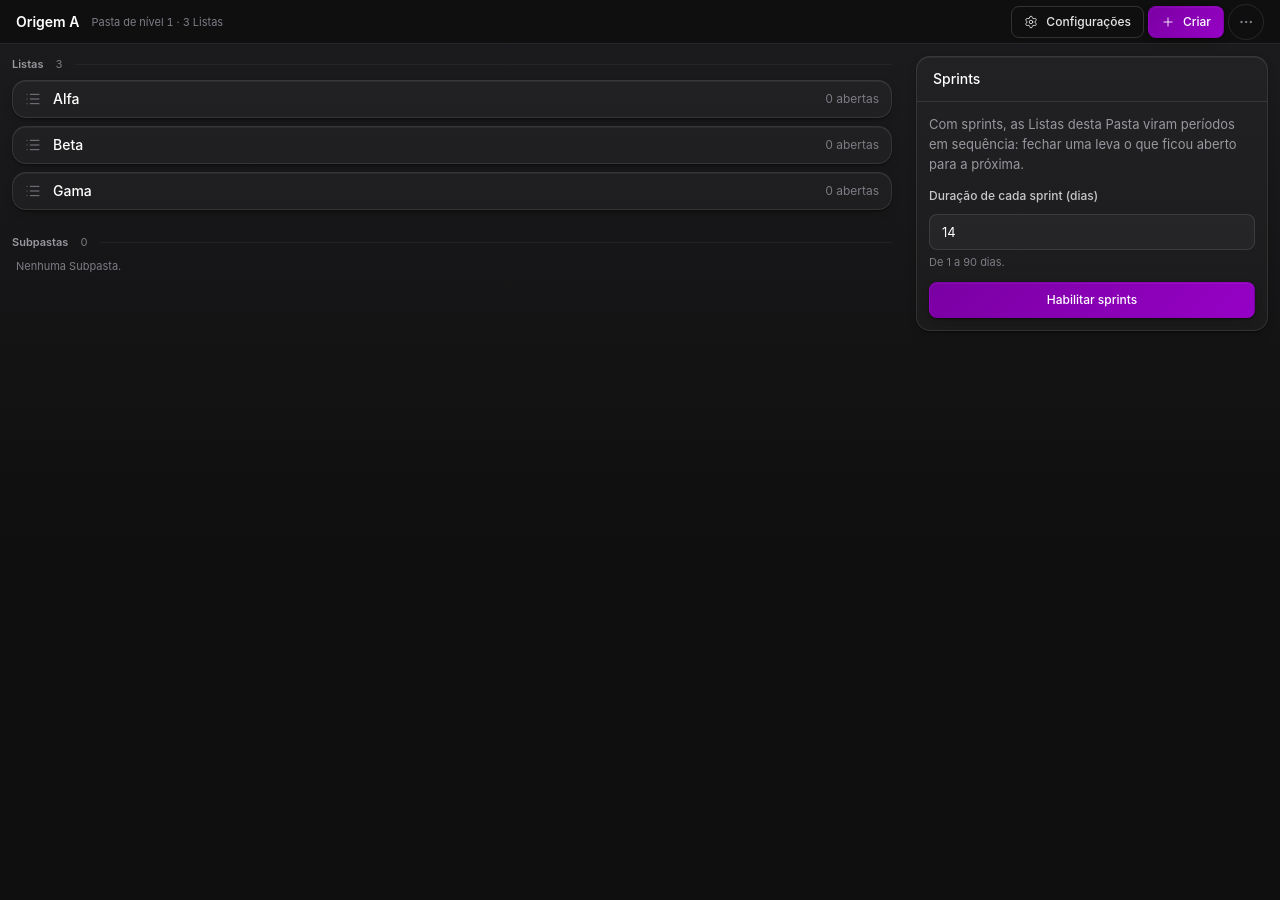
Scenario: A página da Pasta e da Subpasta (D-10, A8-bis, F2) › «Mais ações» vem depois de «Configurações» e de «Criar» e «Mover para…» abre o diálogo da Pasta
The image size is (1280, 900).
Click the button named "Mais ações" at (1246,22), box [1228, 4, 1264, 40]
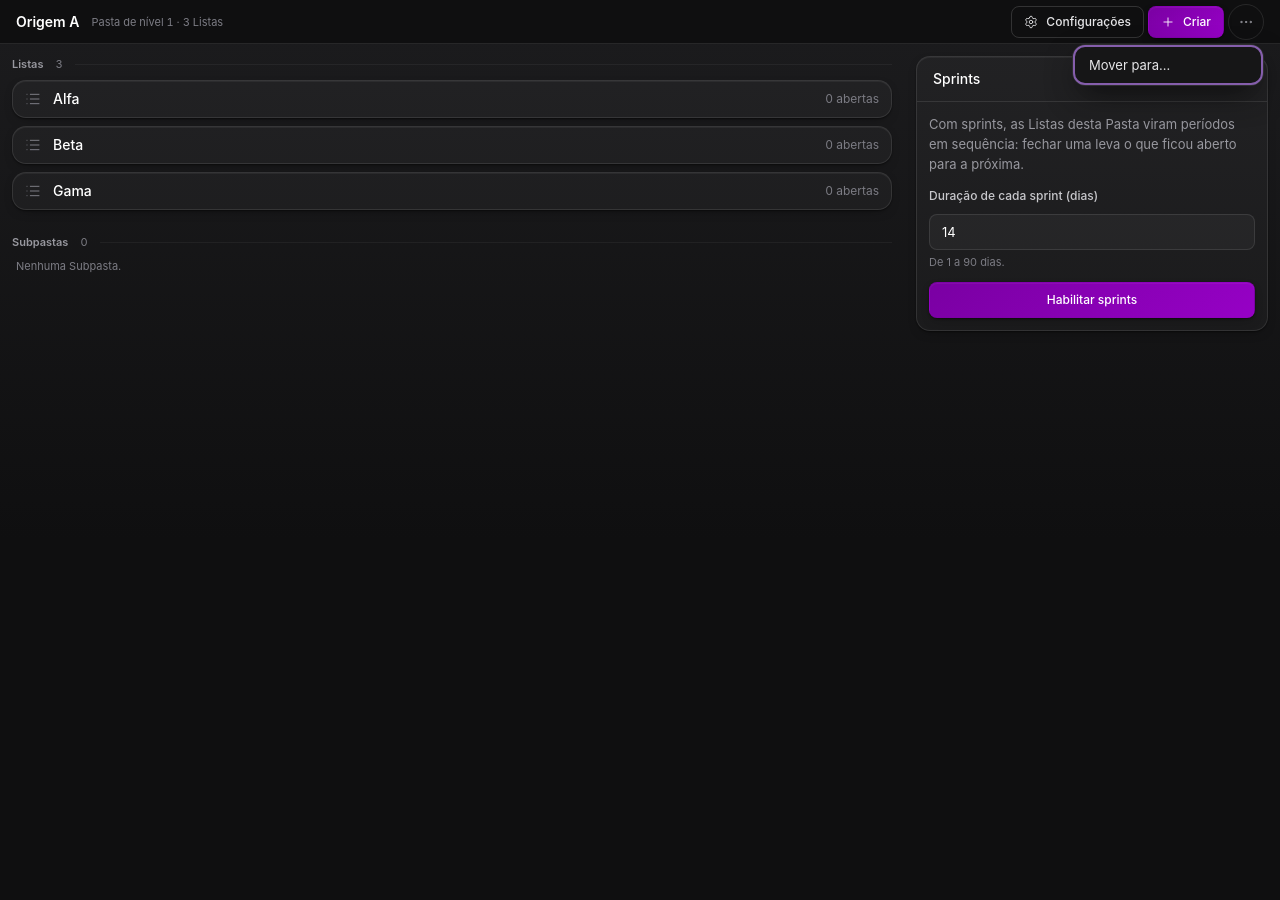
Click the menu item "Mover para…" at (1168,64), box [1077, 48, 1259, 80]
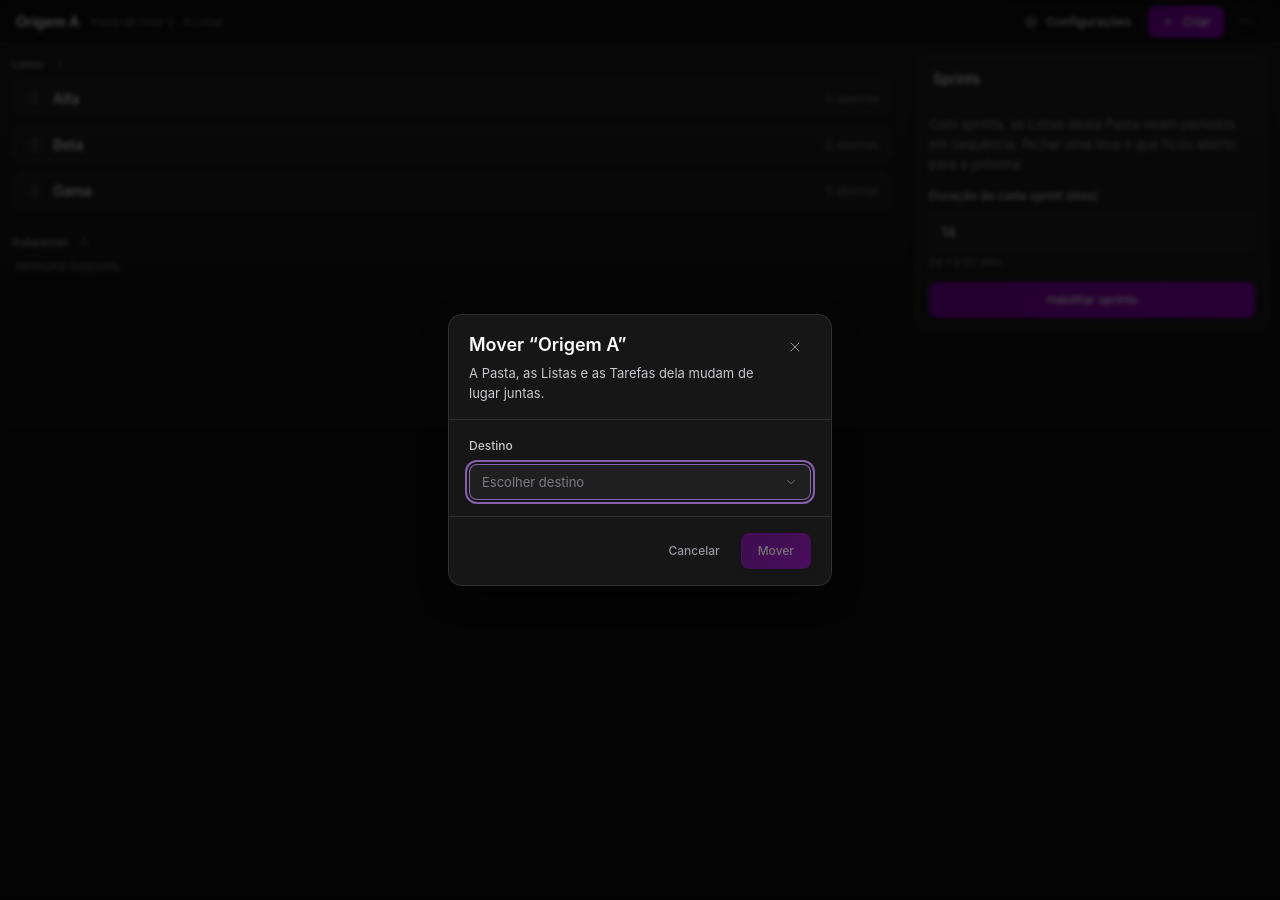
Expected: the dialog "Mover “Origem A”" is shown, [448, 314, 832, 586]
